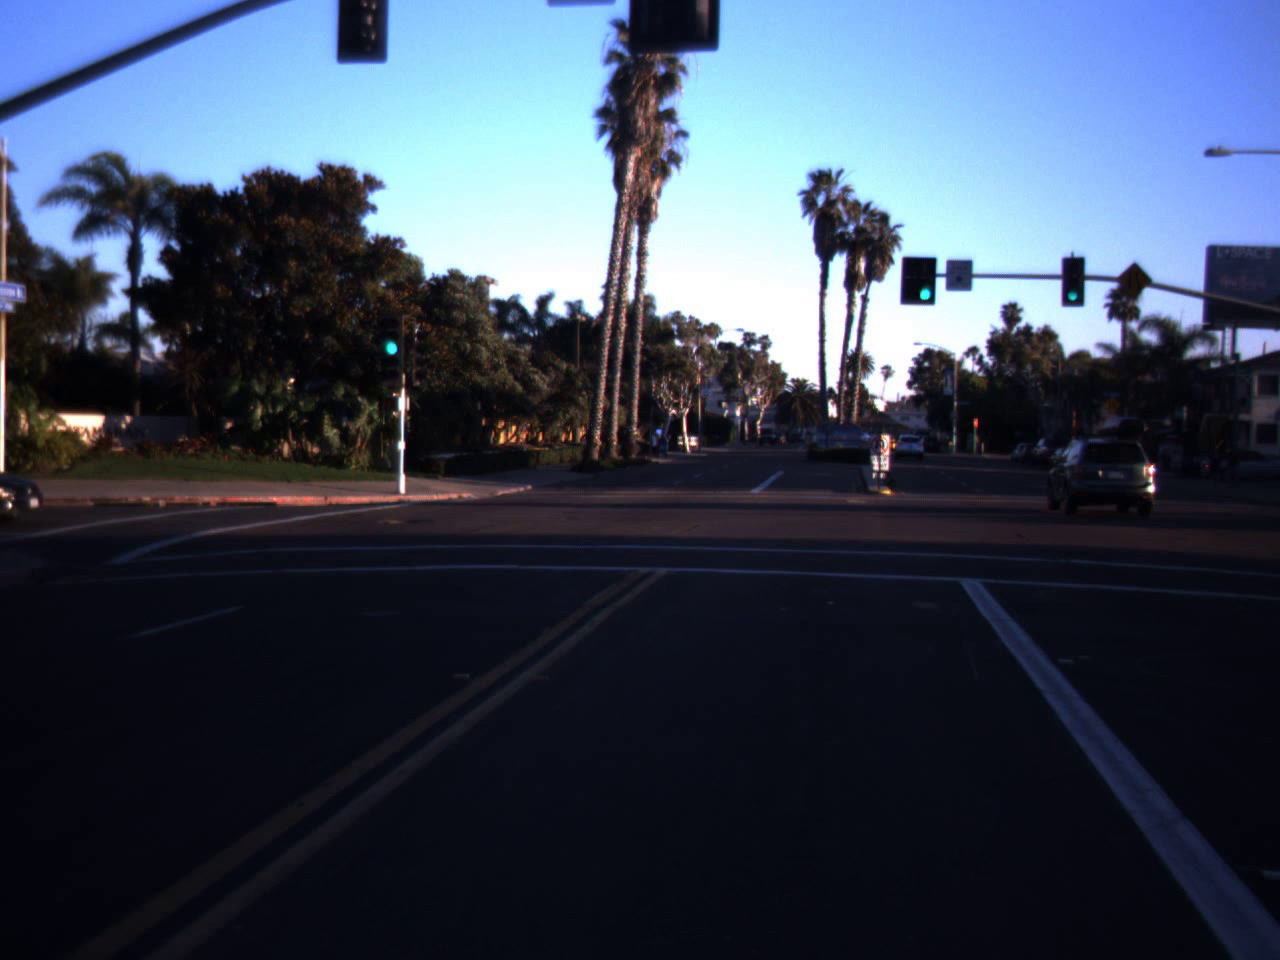go: (910, 258, 940, 303), (380, 304, 404, 359), (1064, 277, 1082, 302)
